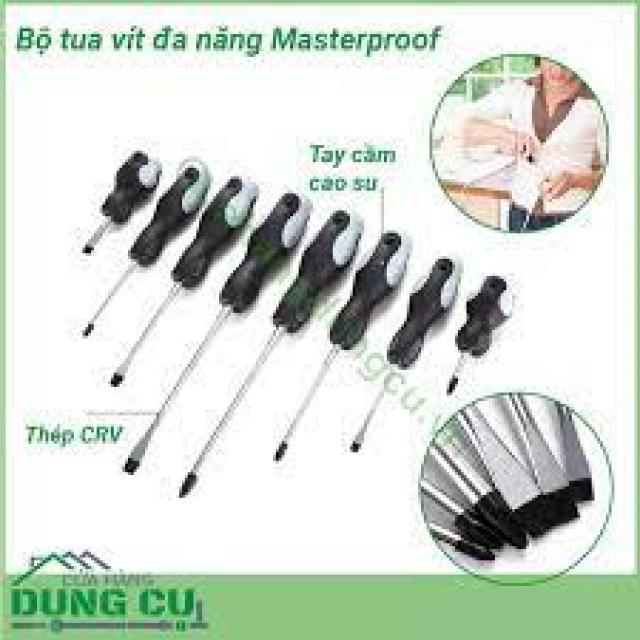screwdriver: (116, 188, 318, 480), (169, 204, 366, 503), (268, 228, 422, 470), (106, 170, 264, 392), (333, 250, 466, 470), (80, 148, 222, 347), (62, 150, 166, 262), (447, 273, 512, 401)
